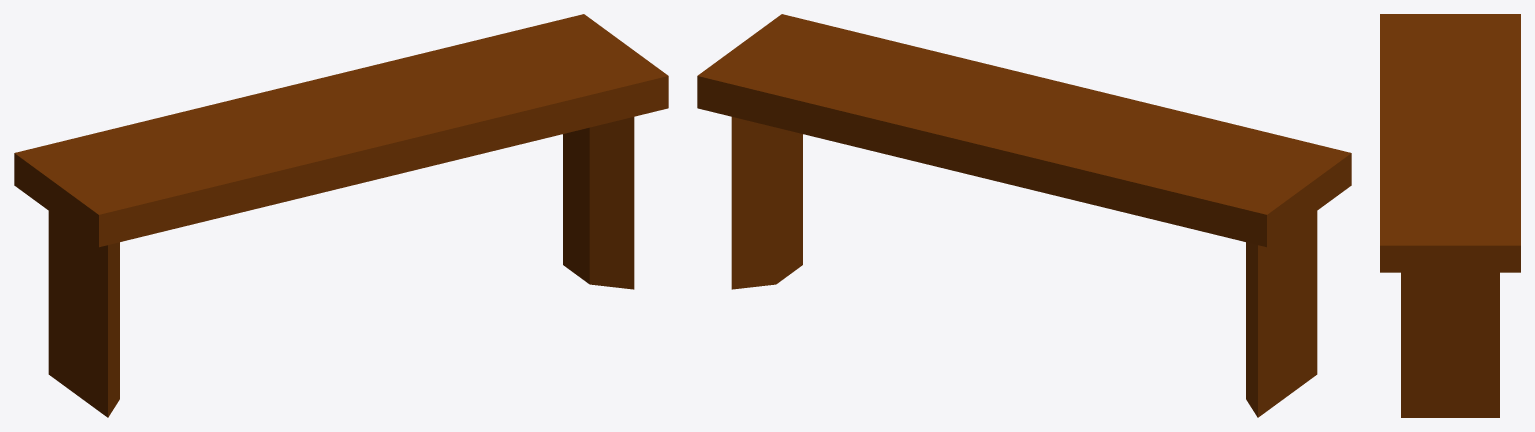
Rendered from _avochka.fbx.
3 views of the same model, side by side, from view 1: azimuth 30°, elevation 25°; view 2: azimuth 150°, elevation 25°; view 3: azimuth 270°, elevation 25° (orthographic). The views are drawn at different scales.
Parts seen in each view (by area): view 1: LAVOCHKA; view 2: LAVOCHKA; view 3: LAVOCHKA.
Boxes of the visible parts, <box> form: LAVOCHKA: <box>14,14,668,417</box>; LAVOCHKA: <box>697,14,1351,417</box>; LAVOCHKA: <box>1380,14,1520,417</box>.
Bounding box in the file's own units: 1135 × 414 × 292.
